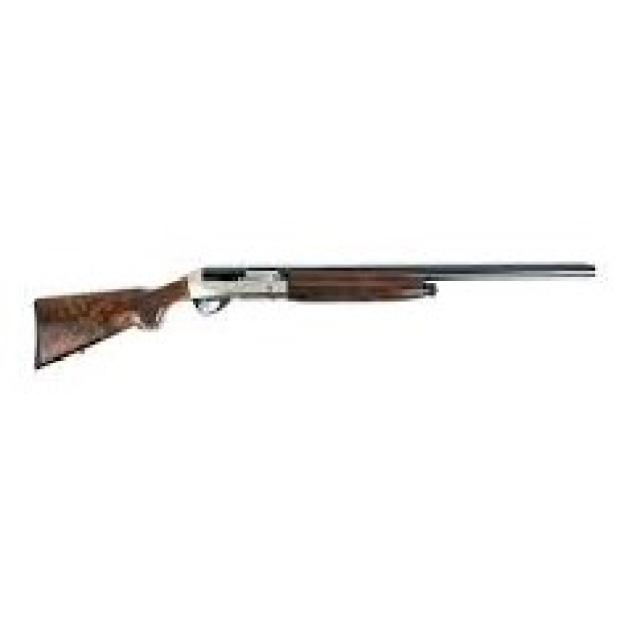rifle: (28, 254, 605, 379)
